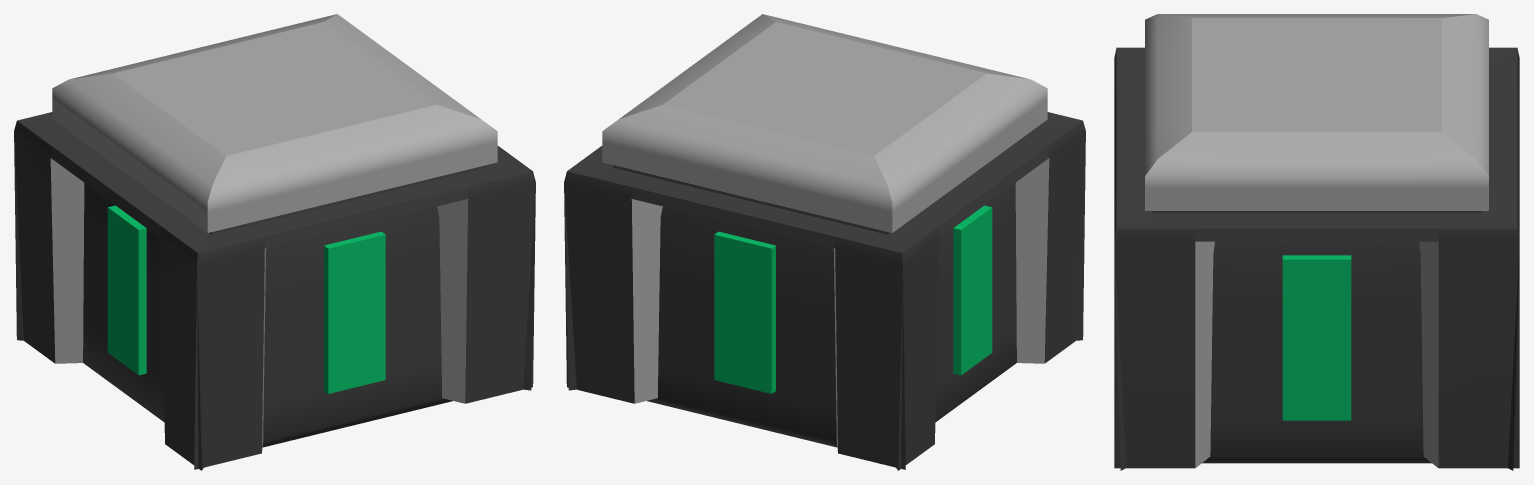
File: lootbox.fbx
3 renders of one model, left to right at view 1: azimuth 30°, elevation 25°; view 2: azimuth 150°, elevation 25°; view 3: azimuth 270°, elevation 25°, orthographic. The views are drawn at different scales.
Parts seen in each view (by area): view 1: pCube3; view 2: pCube3; view 3: pCube3.
Part boxes in pixels (x1,y1,x2,y2): pCube3: (14,14,535,470); pCube3: (564,14,1085,470); pCube3: (1114,14,1519,470).
Bounding box in the file's own units: 9.98 × 8.06 × 9.34.
